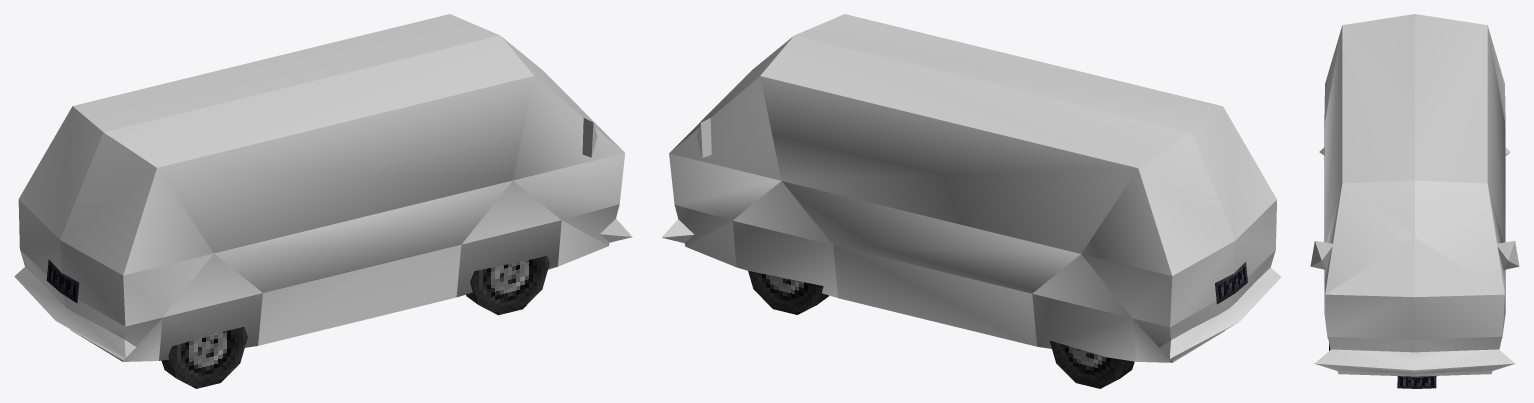
The model's file is RetroCampers.fbx.
3 renders of one model, left to right at view 1: azimuth 30°, elevation 25°; view 2: azimuth 150°, elevation 25°; view 3: azimuth 270°, elevation 25°, orthographic. The views are drawn at different scales.
Parts seen in each view (by area): view 1: Car - Retro Camper, Tire.011, Tire.012, LicensePlate.002; view 2: Car - Retro Camper, Tire.010, Tire.009, LicensePlate.002; view 3: Car - Retro Camper, LicensePlate.002.
Boxes of the visible parts, x1=… form: Car - Retro Camper: x1=14, y1=14, x2=632, y2=361; Tire.011: x1=161, y1=327, x2=247, y2=388; Tire.012: x1=466, y1=255, x2=549, y2=315; LicensePlate.002: x1=46, y1=259, x2=79, y2=303; Car - Retro Camper: x1=662, y1=14, x2=1281, y2=362; Tire.010: x1=1050, y1=341, x2=1134, y2=388; Tire.009: x1=748, y1=271, x2=828, y2=314; LicensePlate.002: x1=1215, y1=262, x2=1247, y2=304; Car - Retro Camper: x1=1310, y1=14, x2=1519, y2=376; LicensePlate.002: x1=1397, y1=376, x2=1436, y2=388.
Size of the model in its own units: 522 by 215 by 206.
